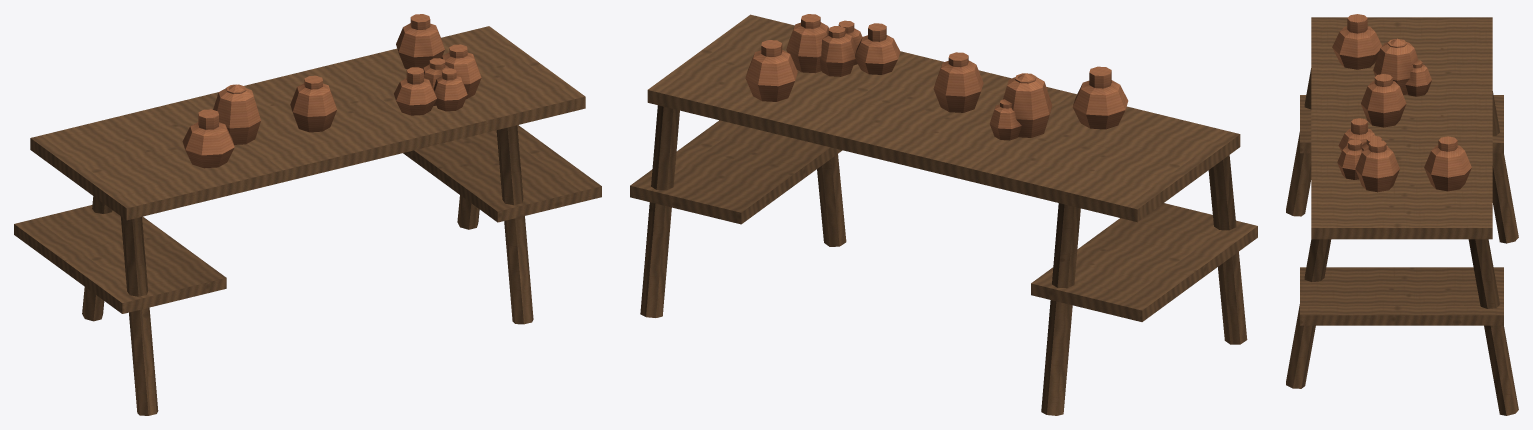
File: trestle_pottery.glb
3 renders of one model, left to right at view 1: azimuth 30°, elevation 25°; view 2: azimuth 150°, elevation 25°; view 3: azimuth 270°, elevation 25°, orthographic. The views are drawn at different scales.
Visible parts, largest first — view 1: trestle_pottery; view 2: trestle_pottery; view 3: trestle_pottery.
Part boxes in pixels (x1,y1,x2,y2): trestle_pottery: (14, 14, 601, 415); trestle_pottery: (630, 14, 1257, 415); trestle_pottery: (1286, 14, 1518, 415).
Size of the model in its own units: 2.3 by 1.17 by 1.03.
Materials: 2 (2 with a texture image).
